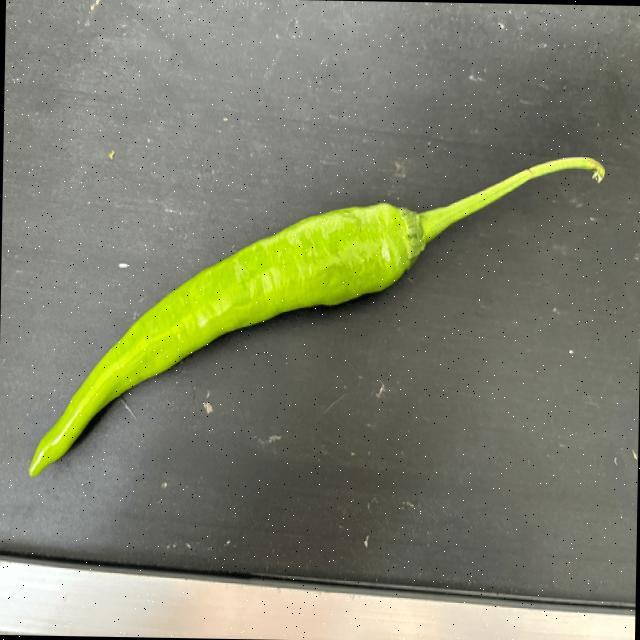chili: (26, 199, 428, 484)
